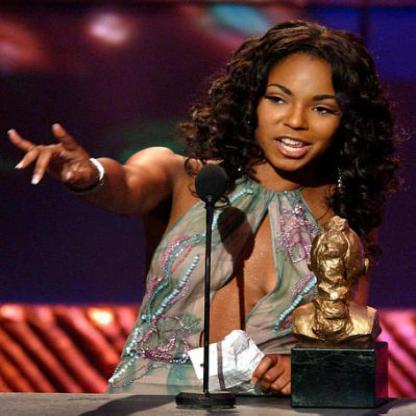face: (252, 36, 351, 173)
